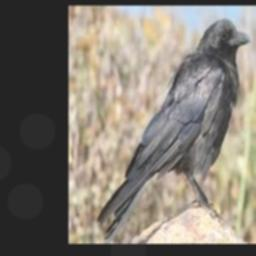Crow: (97, 18, 252, 244)
